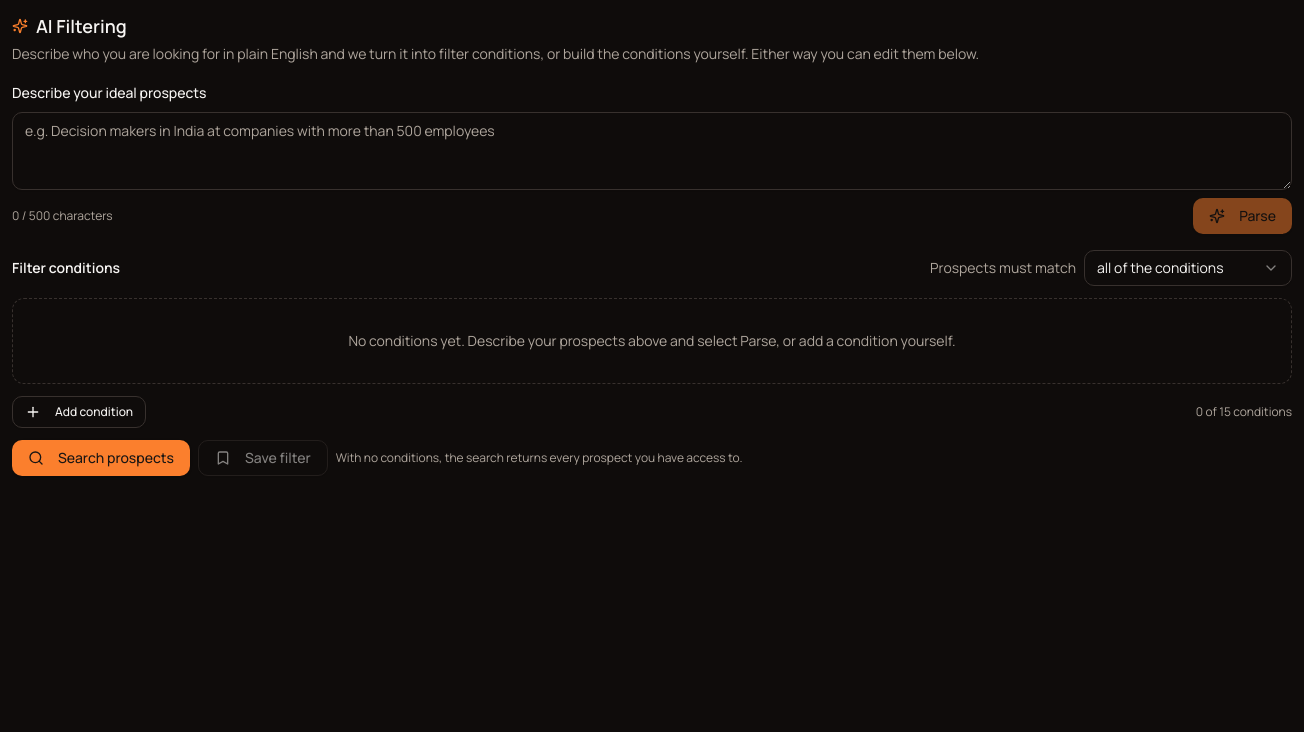
searches every visible prospect when there are no conditions
Expected: the text "the search returns every prospect you have access to" is shown, [336,449,742,466]
Click the button "Search prospects".
click(101, 458)  # box [12,440,190,476]
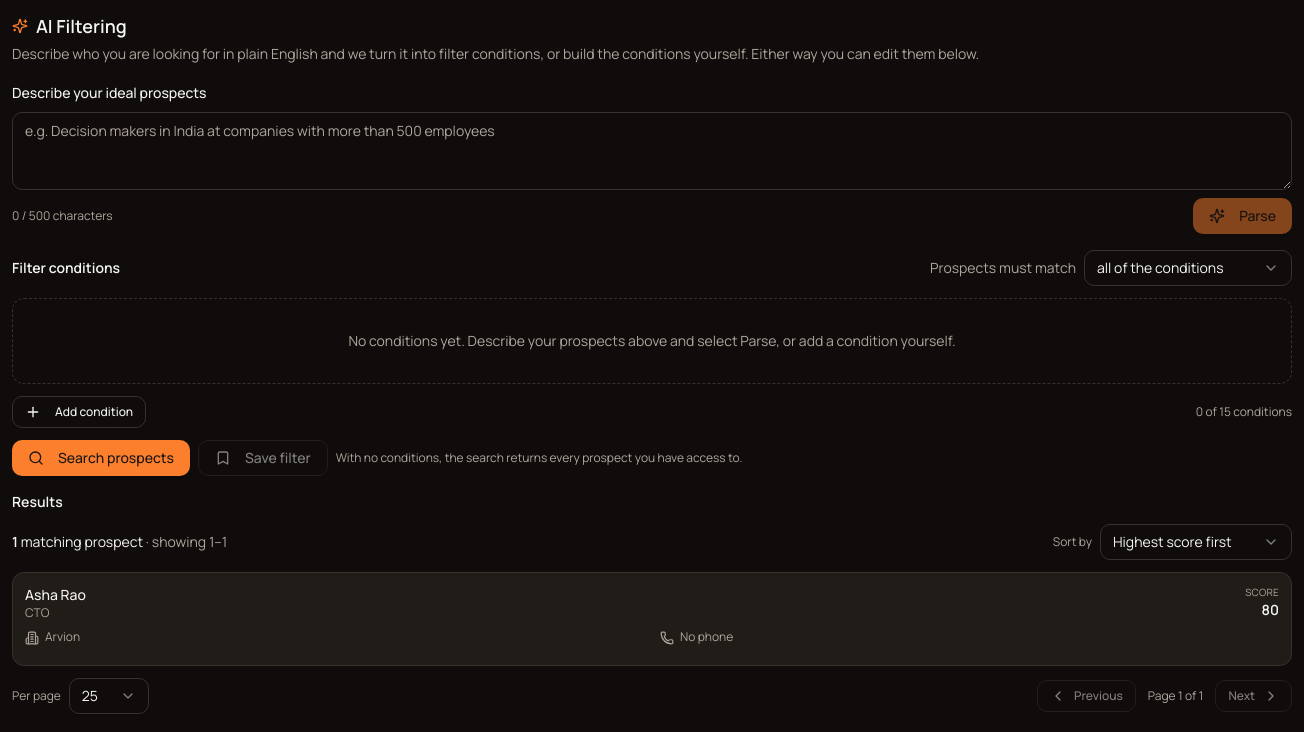
Expected: the text "Asha Rao" is shown, [25,585,86,604]
